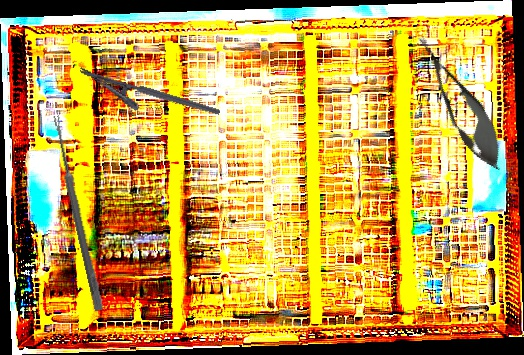Micro Scissor: (403, 25, 517, 180)
Needle Holder: (73, 66, 221, 135)
Surgical Spoon: (50, 114, 105, 312)
